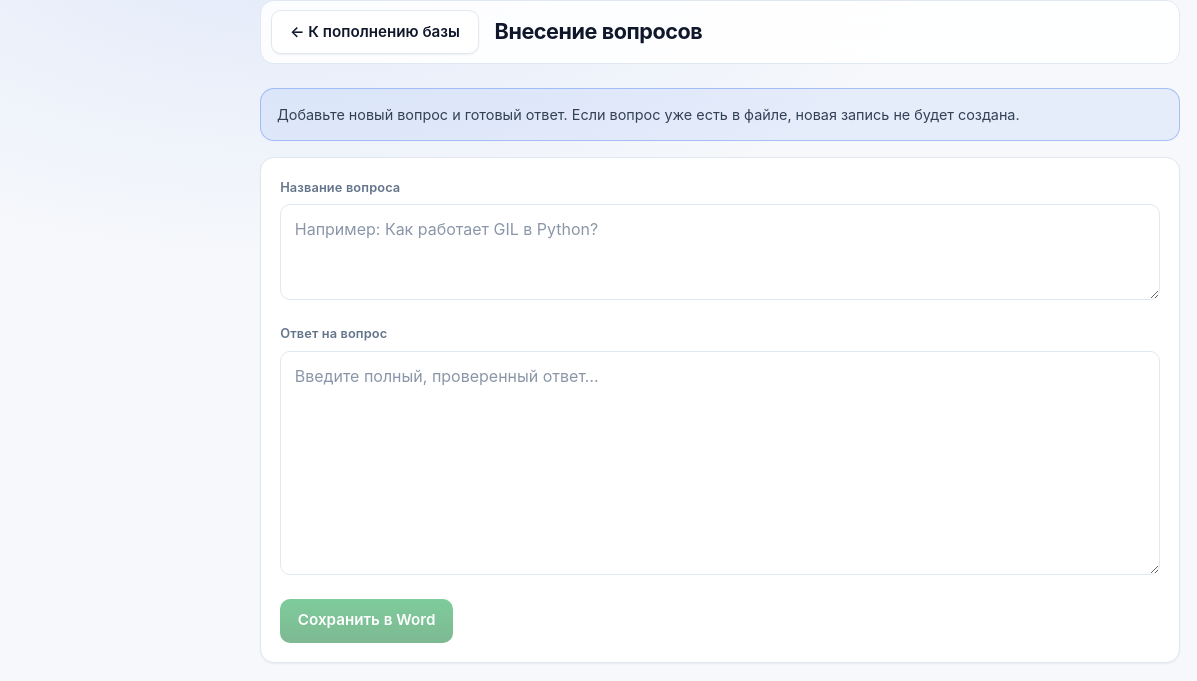
Test case: QuestionEntryContainer › сохраняет введённые вопрос и ответ через общий API сохранения
Type "Что такое GIL?" into the text box labelled "Название вопроса".
click(720, 252); type("Что такое GIL?")  # box [280,204,1160,300]
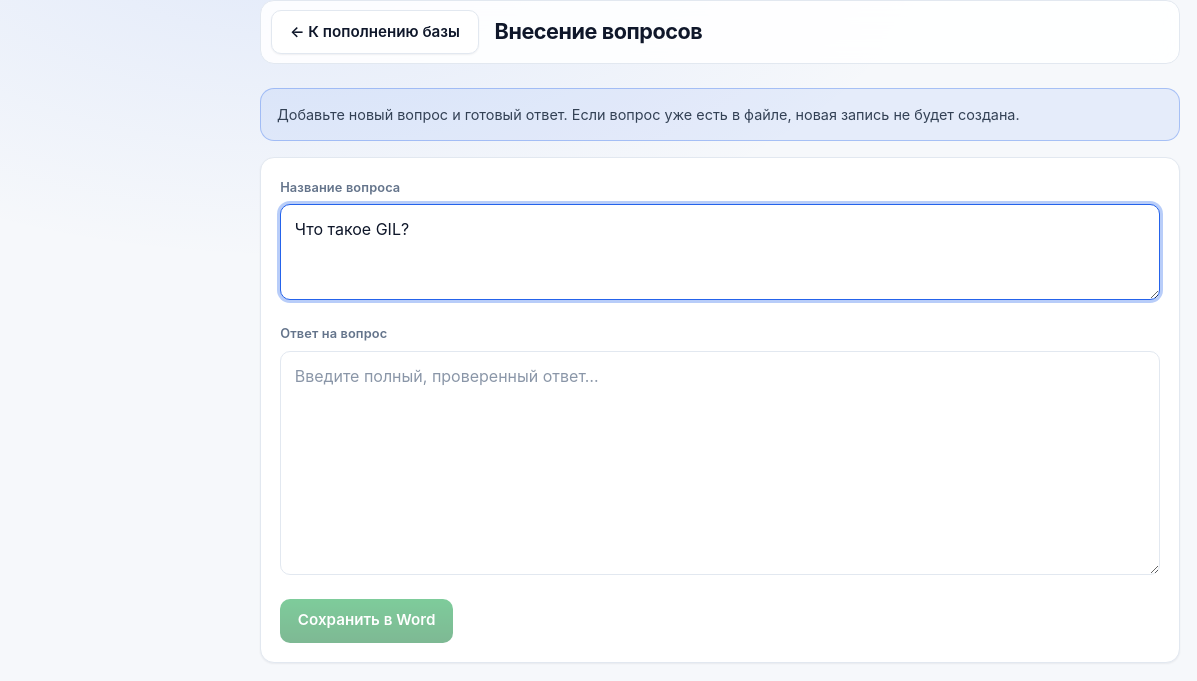
Type "GIL ограничивает выполнение байткода." into the text box labelled "Ответ на вопрос".
click(720, 463); type("GIL ограничивает выполнение байткода.")  # box [280,351,1160,575]
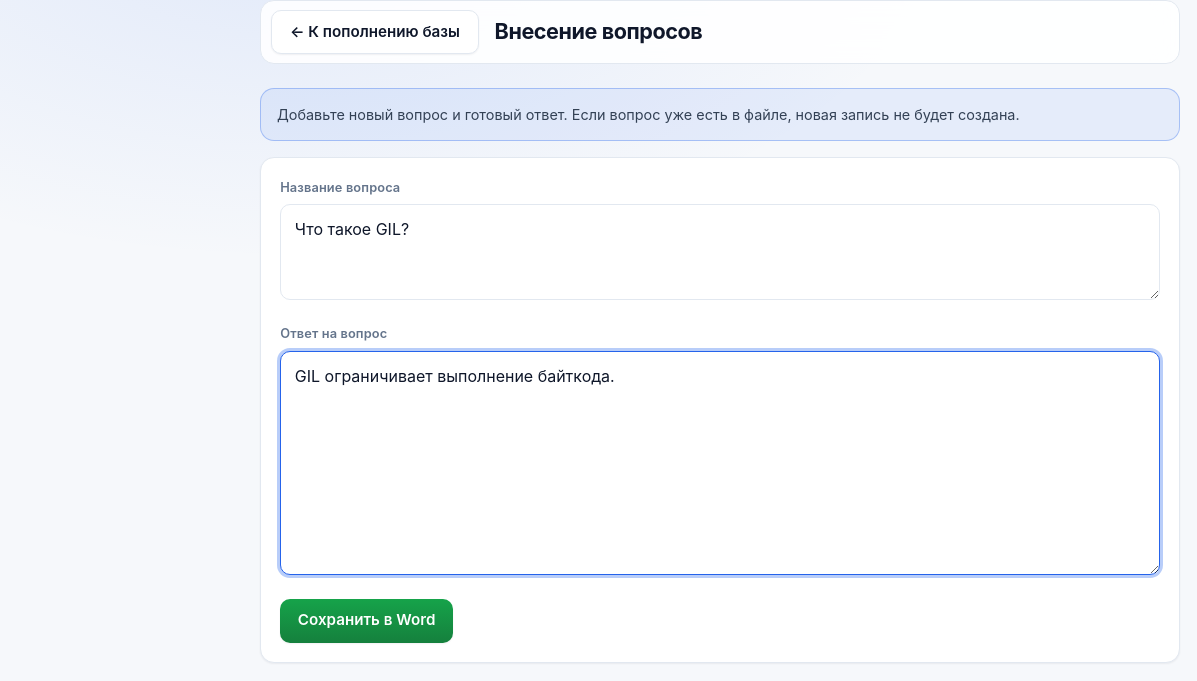
Click the button "Сохранить в Word".
click(367, 620)  # box [280,598,453,642]
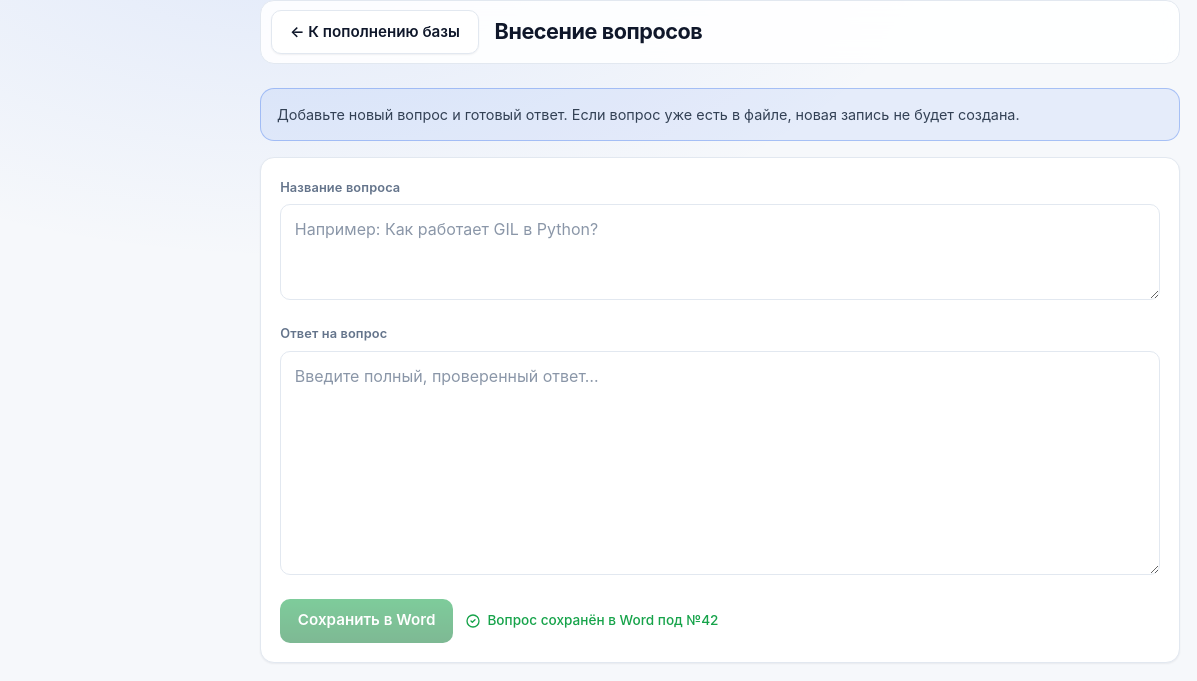
Result: the text "Вопрос сохранён в Word под №42" is shown at [465,610,718,631]
Result: the text box labelled "Название вопроса" is empty at [280,204,1160,300]
